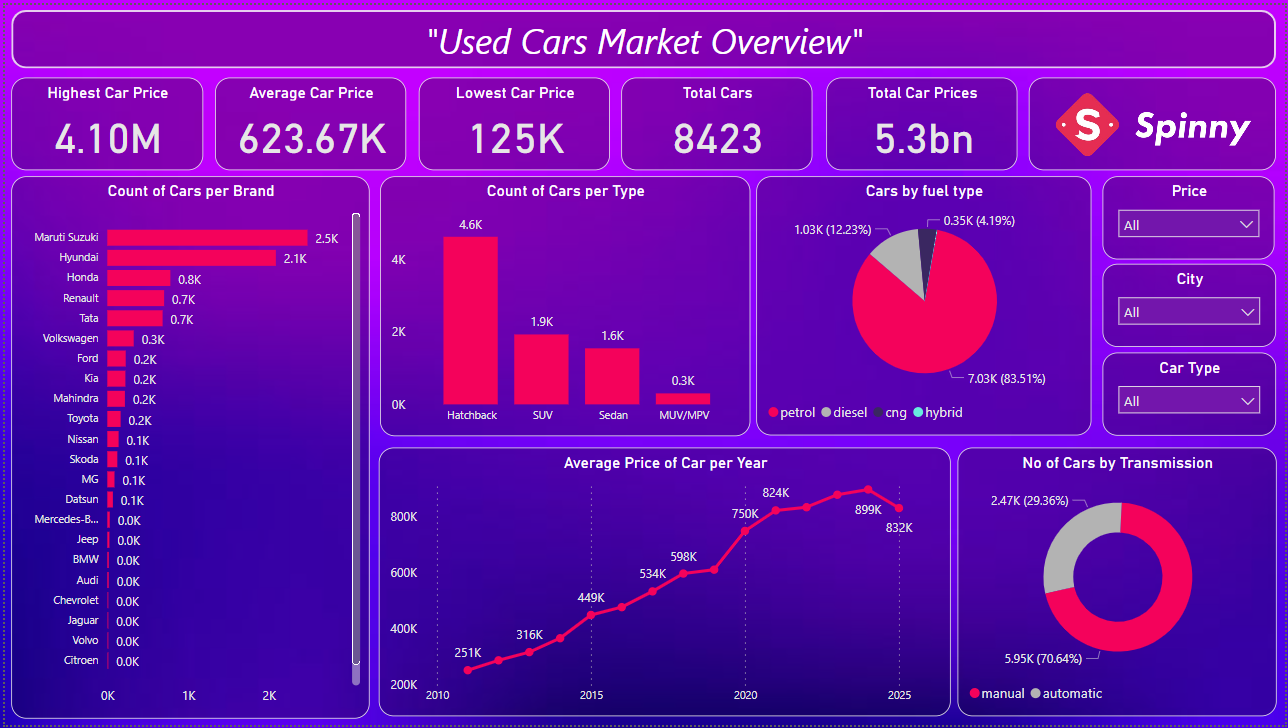

This screenshot's page, from the dashboard's own definition file:
{"tool":"powerbi","page":{"name":"Page 1","canvas":[1280,720],"ordinal":0},"visuals":[{"type":"card","title":"Total Car Prices","fields":{"Values":["Sum(Spinny_Data.price)"]},"box":[821.2,72.5,191.2,92.5],"z":0},{"type":"card","title":"Lowest Car Price","fields":{"Values":["Min(Spinny_Data.price)"]},"box":[413.8,72.5,191.2,92.5],"z":1000},{"type":"card","title":"Highest Car Price","fields":{"Values":["Max(Spinny_Data.price)"]},"box":[6.1,72.1,191.9,92.9],"z":2000},{"type":"card","title":"Average Car Price","fields":{"Values":["Avg(Spinny_Data.price)"]},"box":[210,72.5,191.2,92.5],"z":3000},{"type":"card","title":"Total Cars","fields":{"Values":["CountNonNull(Spinny_Data.name)"]},"box":[616.2,72.5,191.2,92.5],"z":4000},{"type":"pieChart","title":"Cars by fuel type","fields":{"Category":["Spinny_Data.fuel type"],"Y":["CountNonNull(Spinny_Data.fuel type)"]},"box":[751.8,171.1,334.9,259.2],"z":5000},{"type":"slicer","title":"City","fields":{"Values":["Spinny_Data.location"]},"box":[1097.7,259.2,173.6,83.1],"z":6000},{"type":"slicer","title":"Car Type","fields":{"Values":["Spinny_Data.fuel type"]},"box":[1097.7,347.2,173.6,83.1],"z":7000},{"type":"clusteredColumnChart","title":"Count of Cars per Type","fields":{"Category":["Spinny_Data.body_type"],"Y":["CountNonNull(Spinny_Data.brand)"]},"box":[375.3,171.1,370.4,260.4],"z":8000},{"type":"donutChart","title":"No of Cars by Transmission","fields":{"Category":["Spinny_Data.transmission type"],"Y":["CountNonNull(Spinny_Data.transmission type)"]},"box":[952.3,442.5,319,268.9],"z":9000},{"type":"clusteredBarChart","title":"Count of Cars per Brand","fields":{"Category":["Spinny_Data.brand"],"Y":["CountNonNull(Spinny_Data.brand)"]},"box":[6.1,171.1,358.2,542.8],"z":10000},{"type":"lineChart","title":"Average Price of Car per Year","fields":{"Category":["Spinny_Data.year_of_manufacture"],"Y":["Avg(Spinny_Data.price)"]},"box":[374.1,442.5,572.1,268.9],"z":11000},{"type":"image","box":[1023.8,72.5,247.5,92.5],"z":12000},{"type":"shape","box":[6.2,5,1265,58.8],"z":13000},{"type":"slicer","title":"Price","fields":{"Values":["Spinny_Data.price"]},"box":[1097.7,171.1,172.4,83.1],"z":14000}]}

Visuals, with their boxes in screenshot pixels (x1, y1, x2, y2), scaled from the page's 1280x720 canvas onto the 1288x728 screenshot:
"Total Car Prices" card: <bbox>826, 73, 1019, 167</bbox>
"Lowest Car Price" card: <bbox>416, 73, 609, 167</bbox>
"Highest Car Price" card: <bbox>6, 73, 199, 167</bbox>
"Average Car Price" card: <bbox>211, 73, 404, 167</bbox>
"Total Cars" card: <bbox>620, 73, 812, 167</bbox>
"Cars by fuel type" pieChart: <bbox>756, 173, 1093, 435</bbox>
"City" slicer: <bbox>1105, 262, 1279, 346</bbox>
"Car Type" slicer: <bbox>1105, 351, 1279, 435</bbox>
"Count of Cars per Type" clusteredColumnChart: <bbox>378, 173, 750, 436</bbox>
"No of Cars by Transmission" donutChart: <bbox>958, 447, 1279, 719</bbox>
"Count of Cars per Brand" clusteredBarChart: <bbox>6, 173, 367, 722</bbox>
"Average Price of Car per Year" lineChart: <bbox>376, 447, 952, 719</bbox>
image: <bbox>1030, 73, 1279, 167</bbox>
shape: <bbox>6, 5, 1279, 65</bbox>
"Price" slicer: <bbox>1105, 173, 1278, 257</bbox>
